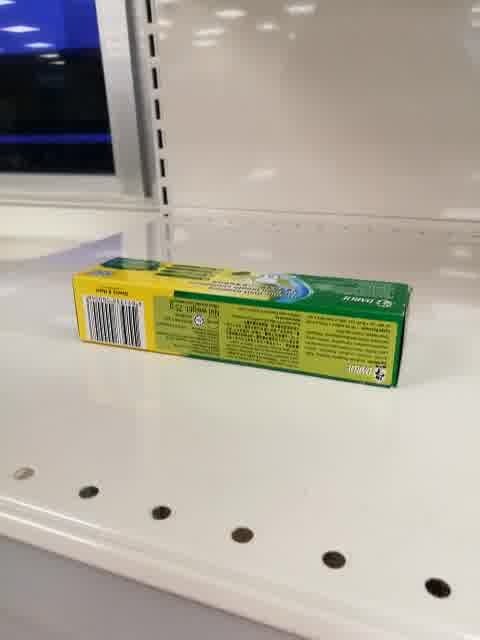toothpaste: (71, 256, 412, 388)
